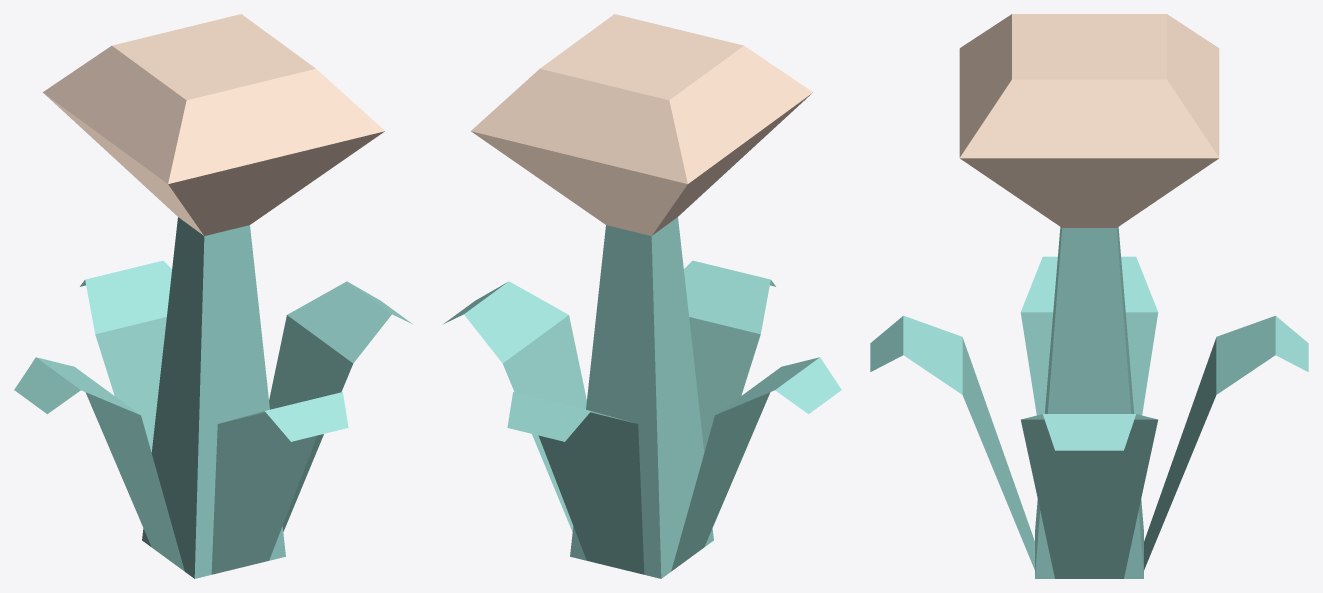
The model's file is flower_beige2.glb.
The picture shows the model from 3 angles, left to right: view 1: azimuth 30°, elevation 25°; view 2: azimuth 150°, elevation 25°; view 3: azimuth 270°, elevation 25°; orthographic projection. The views are drawn at different scales.
Visible parts, largest first — view 1: flower_beige2; view 2: flower_beige2; view 3: flower_beige2.
Part boxes in pixels (<box>): flower_beige2: <box>14,14,412,578</box>; flower_beige2: <box>443,14,841,578</box>; flower_beige2: <box>870,14,1308,578</box>.
Size of the model in its own units: 0.1714 by 0.2196 by 0.1714.
